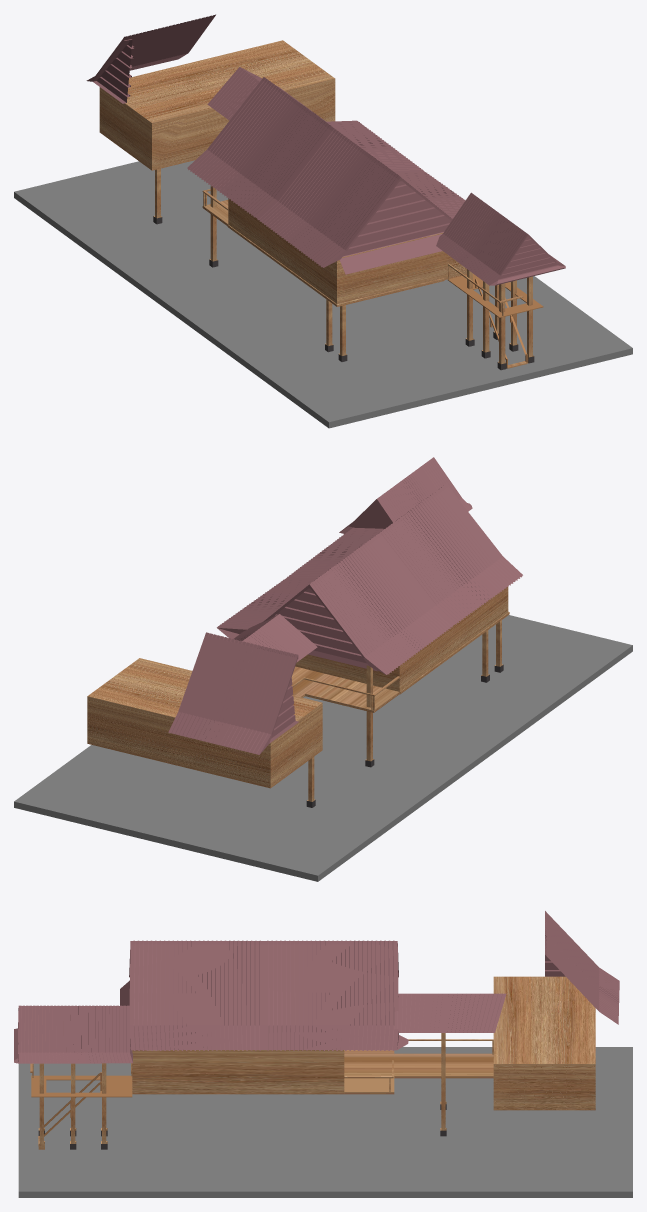
The model's file is blend rumah adat mandar1.glb.
The picture shows the model from 3 angles, top to bottom: view 1: azimuth 30°, elevation 25°; view 2: azimuth 150°, elevation 25°; view 3: azimuth 270°, elevation 25°; orthographic projection. The views are drawn at different scales.
Parts seen in each view (by area): view 1: Plane, Cube.002, Cube.001, Cube, Cube.010, Cube.012, Cube.006, Cube.030, Cube.007; view 2: Plane, Cube.002, Cube.001, Cube.012, Cube, Cube.010, Cube.030, Cube.017; view 3: Plane, Cube.002, Cube, Cube.001, Cube.010, Cube.030, Cube.012, Cube.007, Cube.006, Cube.019.
Part boxes in pixels (box(x1,y1,x2,y2)): Plane: box(14, 160, 632, 428); Cube.002: box(187, 77, 465, 274); Cube.001: box(99, 40, 335, 170); Cube: box(202, 198, 466, 306); Cube.010: box(436, 192, 565, 285); Cube.012: box(86, 14, 215, 103); Cube.006: box(465, 269, 534, 370); Cube.030: box(207, 67, 325, 121); Cube.007: box(447, 274, 543, 317); Plane: box(14, 615, 632, 881); Cube.002: box(217, 484, 522, 674); Cube.001: box(87, 658, 322, 788); Cube.012: box(168, 632, 298, 754); Cube: box(291, 587, 509, 712); Cube.010: box(339, 457, 472, 533); Cube.030: box(234, 614, 317, 662); Cube.017: box(365, 665, 374, 767); Plane: box(18, 1047, 632, 1197); Cube.002: box(120, 940, 408, 1050); Cube: box(131, 1050, 493, 1094); Cube.001: box(493, 976, 595, 1110); Cube.010: box(14, 1005, 132, 1063); Cube.030: box(394, 993, 506, 1032); Cube.012: box(545, 911, 619, 1024); Cube.007: box(31, 1075, 132, 1097); Cube.006: box(38, 1063, 107, 1149); Cube.019: box(440, 1033, 446, 1136).
Bounding box in the file's own units: 3.92 × 2.19 × 7.08.
5 materials, 2 textured.
